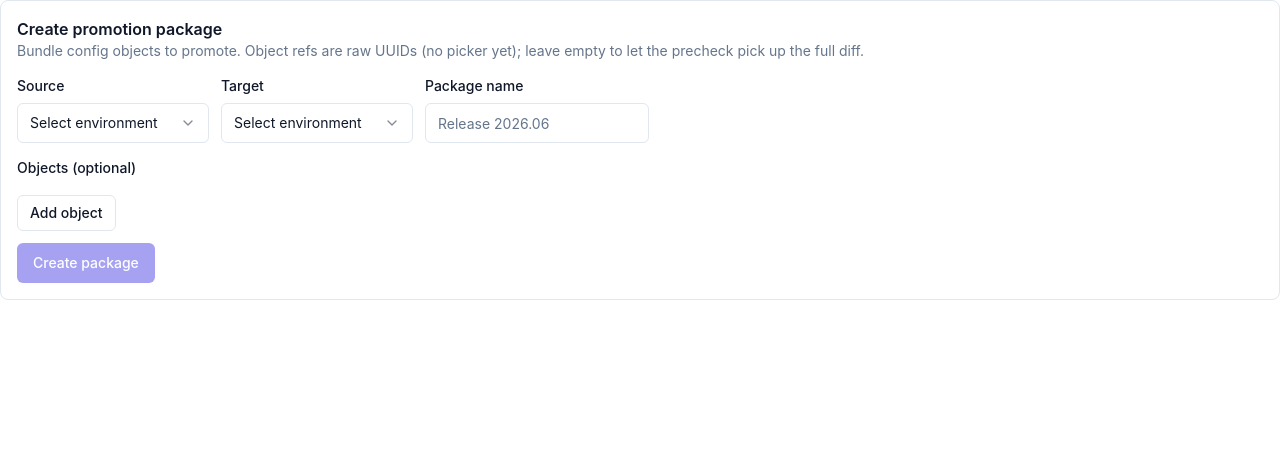
Test: CreatePackageForm › sends source/target/name + objects payload and renders diff + risk
Click the dropdown named "Source" at (113, 123), box [17,103,209,143]
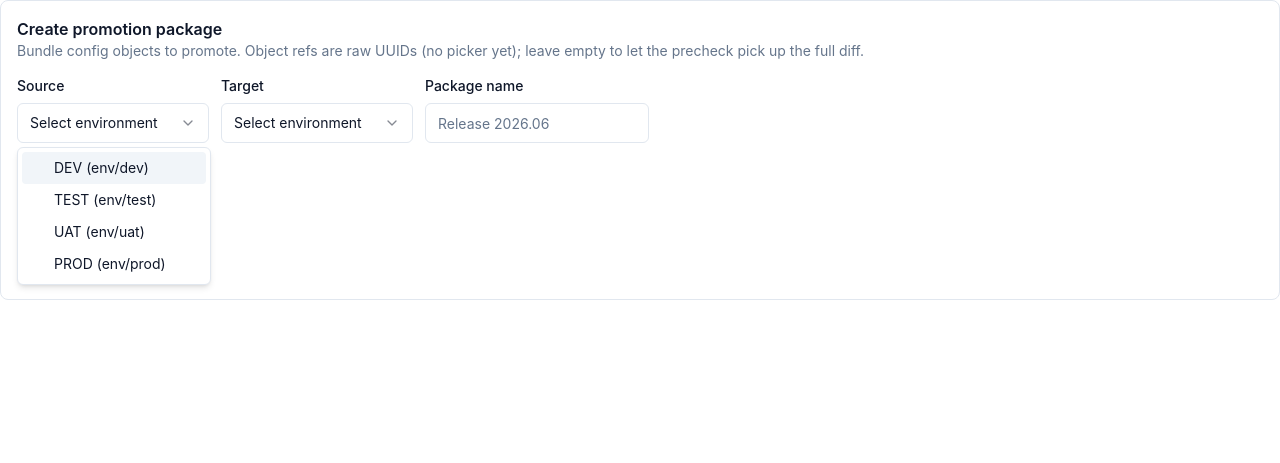
Click the option "DEV (env/dev)" at (114, 168), box [22,152,206,184]
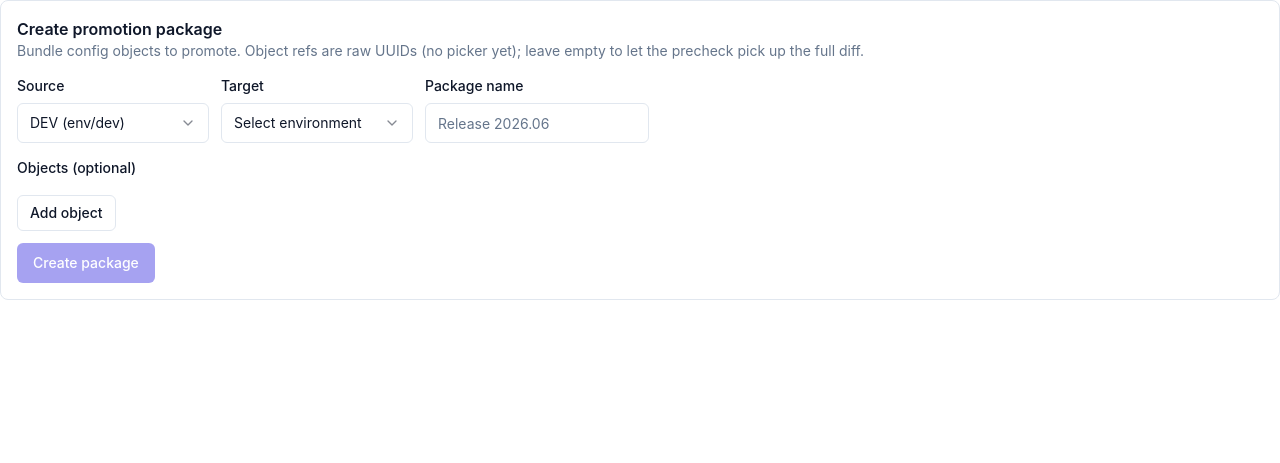
Click the dropdown named "Target" at (317, 123), box [221,103,413,143]
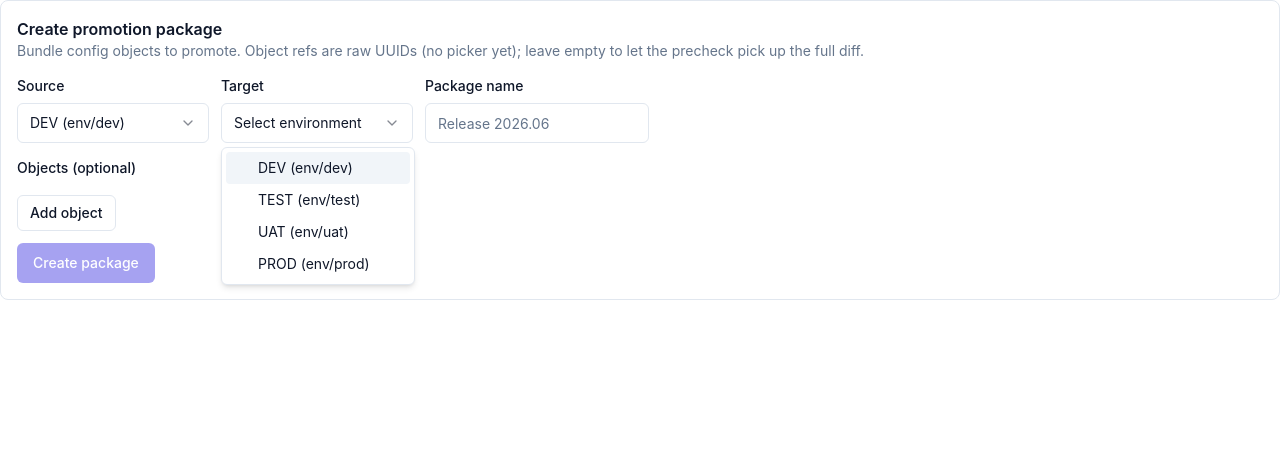
Click the option "TEST (env/test)" at (309, 200), box [258,191,360,208]
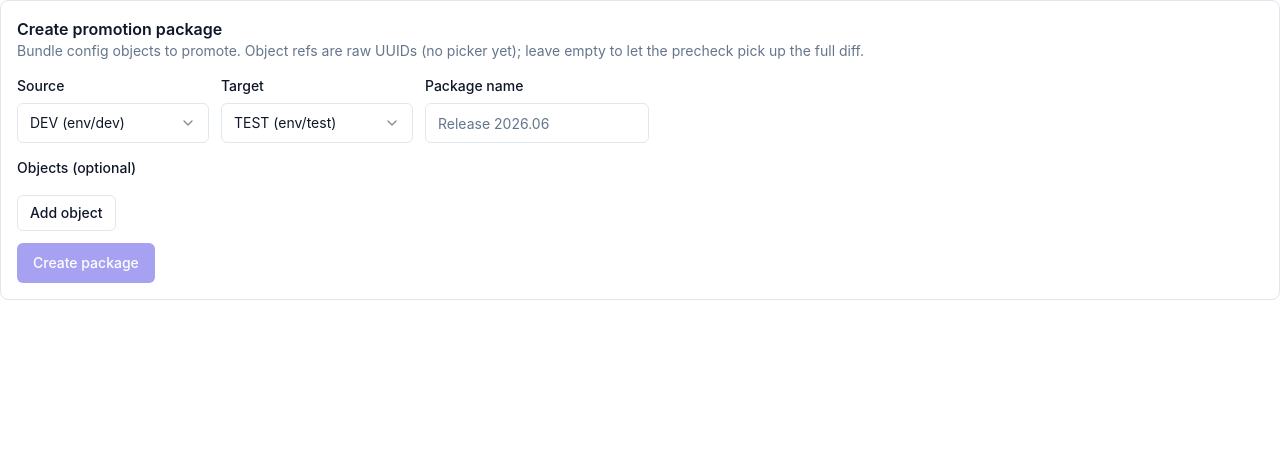
Type "Release 1" into the field labelled "Package name" at (537, 123), box [425,103,649,143]
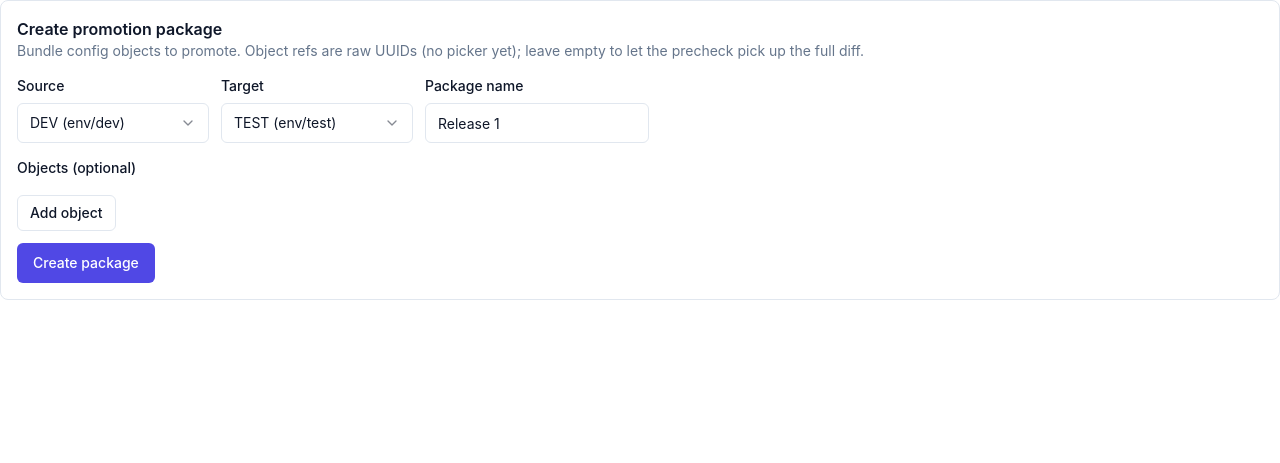
Click the button "Create package" at (86, 263), box [17,243,155,283]
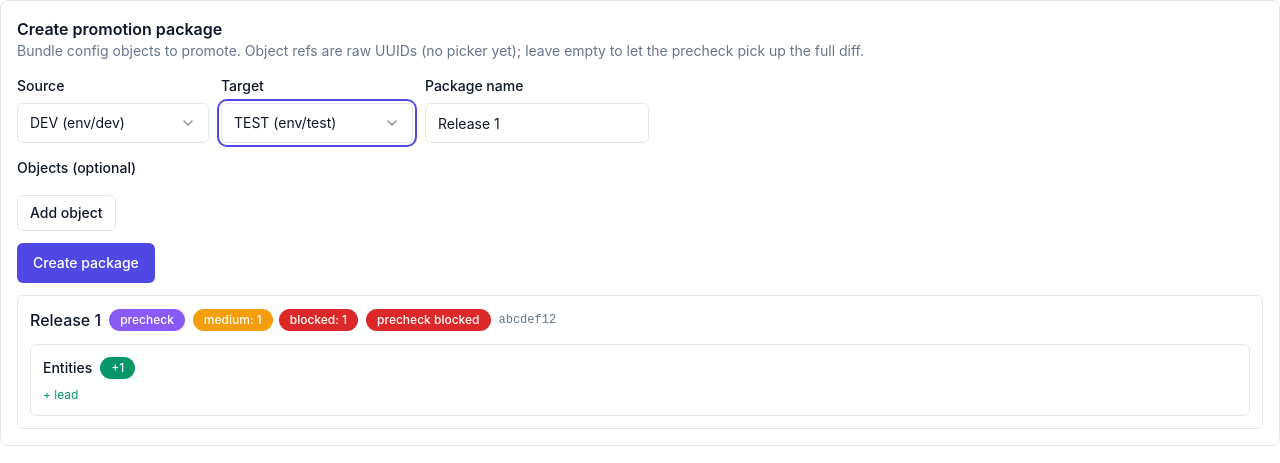
Now the text "precheck blocked" is shown, box [366,309,490,331]
Now the element named "diff-entities" shows "lead", box [54,387,78,402]
